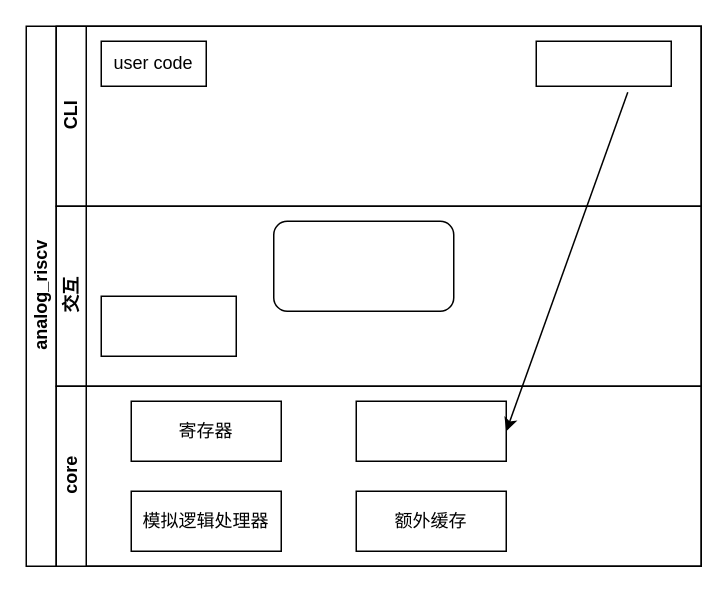
Some shapes in this 728 by 593 pixel diagram are drawn without their labels. The shapes that lost their labels are listed below. From the top down, each one's centre as x and y in pixels, then its label:
[603,63]: *.riscv 文件
[363,265]: 二进制提取信息
[168,325]: log
[430,430]: 模拟RISC-V汇编实现
